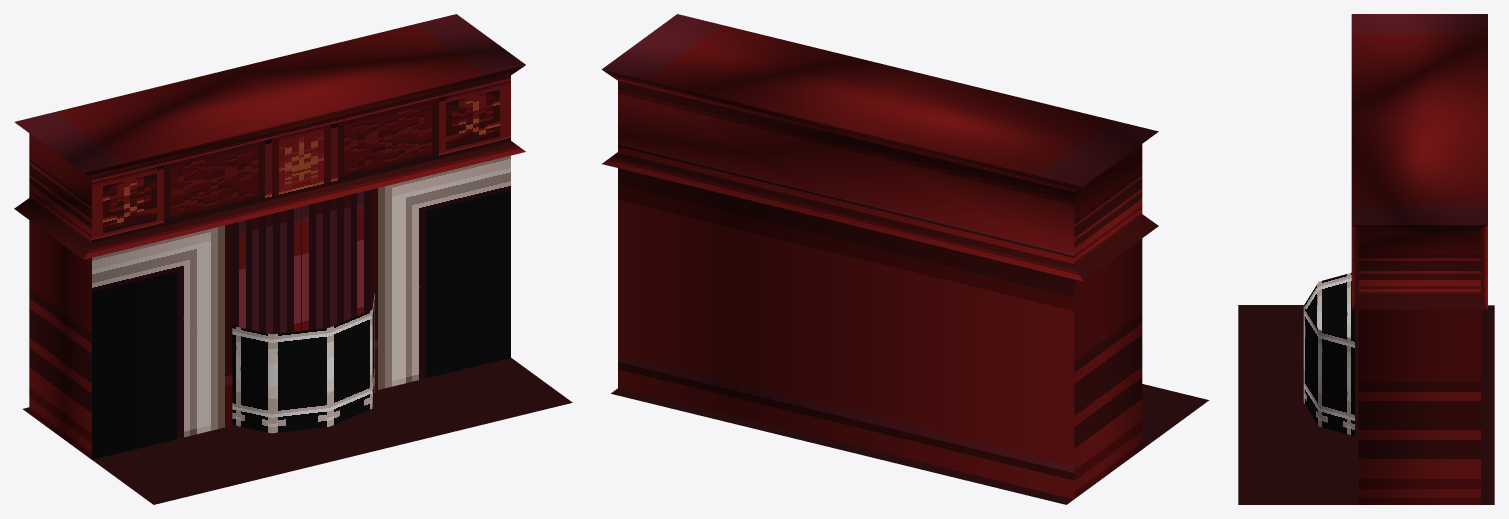
3 views of the same model, side by side, from view 1: azimuth 30°, elevation 25°; view 2: azimuth 150°, elevation 25°; view 3: azimuth 270°, elevation 25° (orthographic). The views are drawn at different scales.
Visible parts, largest first — view 1: 3049IMRL02_10; view 2: 3049IMRL02_10; view 3: 3049IMRL02_10.
Boxes of the visible parts, left/top/right/bottom form: 3049IMRL02_10: left=14, top=14, right=572, bottom=504; 3049IMRL02_10: left=602, top=14, right=1208, bottom=504; 3049IMRL02_10: left=1238, top=14, right=1494, bottom=504.
Bounding box in the file's own units: 1.84 × 1.16 × 0.9478.
3 materials, 3 textured.
